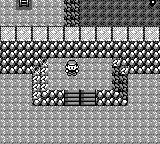captura: (0, 58, 159, 143), (80, 0, 160, 26), (0, 0, 64, 26)
main: (64, 61, 80, 76)
no-caminable: (0, 40, 159, 107), (0, 27, 159, 41), (64, 0, 80, 26)
npc: (147, 0, 158, 7)
puerta: (18, 0, 31, 7)
